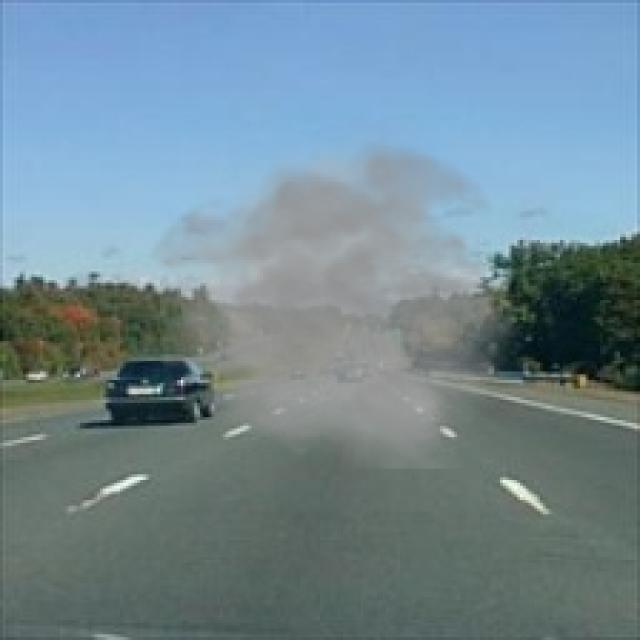smoke: (146, 114, 528, 469)
